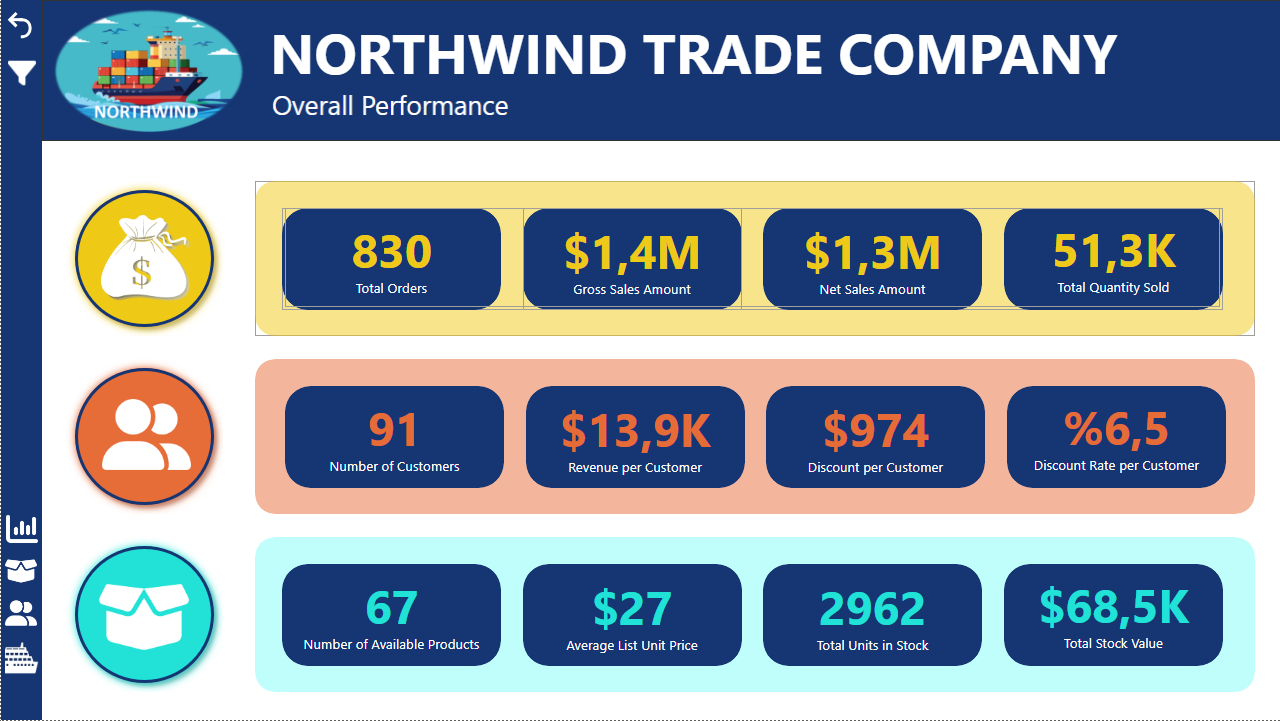

Layout of this report page (visuals, bound fields, positions):
{"tool":"powerbi","page":{"name":"Overall Performance","canvas":[1280,720],"ordinal":0},"visuals":[{"type":"shape","box":[41,0,1239,141],"z":0},{"type":"group","id":"g1","title":"KPI Cards","box":[281,207.7,941,102],"z":0,"group":"g5"},{"type":"shape","box":[281,207.7,219,102],"z":0,"group":"g1"},{"type":"group","id":"g2","title":"KPI Cards","box":[284,385.6,941,102],"z":0,"group":"g9"},{"type":"shape","box":[284,385.6,219,102],"z":0,"group":"g2"},{"type":"group","id":"g3","title":"KPI Cards","box":[281,564,941,102],"z":0,"group":"g12"},{"type":"shape","box":[281,564,219,102],"z":0,"group":"g3"},{"type":"actionButton","box":[0,593.1,41,40],"z":0,"group":"g16"},{"type":"image","box":[48,0,200,141],"z":1000},{"type":"shape","box":[254,181.2,1000,155],"z":1000,"group":"g4"},{"type":"card","fields":{"Values":["ölçüler.Total Orders"]},"box":[284,207.7,213,98],"z":1000,"group":"g13"},{"type":"shape","box":[521.7,207.7,219,102],"z":1000,"group":"g1"},{"type":"card","fields":{"Values":["ölçüler.Number of Unique Customers"]},"box":[287,385.6,213,98],"z":1000,"group":"g14"},{"type":"shape","box":[524.7,385.6,219,102],"z":1000,"group":"g2"},{"type":"actionButton","box":[0,551.1,41,40],"z":1000,"group":"g16"},{"type":"card","fields":{"Values":["ölçüler.Total Products"]},"box":[284,564,213,98],"z":1000,"group":"g15"},{"type":"shape","box":[521.7,564,219,102],"z":1000,"group":"g3"},{"type":"shape","title":"Left Nav Background","box":[0,0,41,720],"z":2000},{"type":"shape","box":[762.3,207.7,219,102],"z":2000,"group":"g1"},{"type":"card","fields":{"Values":["ölçüler.Gross Sales Amount"]},"box":[525,209.7,212,97],"z":2000,"group":"g13"},{"type":"shape","box":[765.3,385.6,219,102],"z":2000,"group":"g2"},{"type":"card","fields":{"Values":["ölçüler.Revenue_Per_Customer"]},"box":[528,387.6,212,97],"z":2000,"group":"g14"},{"type":"shape","box":[762.3,564,219,102],"z":2000,"group":"g3"},{"type":"card","fields":{"Values":["ölçüler.Average Unit Price"]},"box":[525,566,212,97],"z":2000,"group":"g15"},{"type":"actionButton","box":[0,635,42,46],"z":2000,"group":"g16"},{"type":"actionButton","box":[3,55,39,36],"z":3000},{"type":"shape","box":[1003,207.7,219,102],"z":3000,"group":"g1"},{"type":"card","fields":{"Values":["ölçüler.Total Quantity Sold"]},"box":[1006,207.7,213,97],"z":3000,"group":"g13"},{"type":"shape","box":[1006,385.6,219,102],"z":3000,"group":"g2"},{"type":"card","fields":{"Values":["ölçüler.Discount_Rate_Per_Customer"]},"box":[1009,385.6,213,97],"z":3000,"group":"g14"},{"type":"actionButton","box":[1,509.2,41,40],"z":3000,"group":"g16"},{"type":"shape","box":[1003,564,219,102],"z":3000,"group":"g3"},{"type":"card","fields":{"Values":["ölçüler.Total_Stock_Value"]},"box":[1006,564,213,97],"z":3000,"group":"g15"},{"type":"actionButton","box":[0.5,7,41,36],"z":4000},{"type":"card","fields":{"Values":["ölçüler.Net_Sales_Amount"]},"box":[765.3,210,213,97],"z":4000,"group":"g13"},{"type":"card","fields":{"Values":["ölçüler.Discount per Customer"]},"box":[768.3,387.9,213,97],"z":4000,"group":"g14"},{"type":"card","fields":{"Values":["ölçüler.Total Units in Stock"]},"box":[765.3,566.3,213,97],"z":4000,"group":"g15"},{"type":"textbox","box":[264,9,999,91],"z":5000},{"type":"group","id":"g4","title":"Group 2","box":[254,181.2,1000,155],"z":6000},{"type":"group","id":"g5","title":"KPIs","box":[281,207.7,941,102],"z":6000,"group":"g4"},{"type":"group","id":"g6","title":"Group 3","box":[254,359.1,1000,155],"z":7000},{"type":"shape","box":[254,359.1,1000,155],"z":7000,"group":"g6"},{"type":"group","id":"g7","title":"Group 4","box":[254,537,1000,155],"z":8000},{"type":"shape","box":[254,537,1000,155],"z":8000,"group":"g7"},{"type":"group","id":"g8","title":"Group 5","box":[64.7,181,157,155],"z":9000},{"type":"group","id":"g9","title":"KPIs","box":[284,385.6,941,102],"z":9000,"group":"g6"},{"type":"shape","box":[64.7,181,157,155],"z":10000,"group":"g8"},{"type":"group","id":"g10","title":"Group 6","box":[64.7,359,157,155],"z":10000},{"type":"shape","box":[64.7,359,157,155],"z":11000,"group":"g10"},{"type":"group","id":"g11","title":"Group 7","box":[64.7,537,157,155],"z":11000},{"type":"image","box":[258,78,266,57],"z":12000},{"type":"shape","box":[64.7,537,157,155],"z":12000,"group":"g11"},{"type":"group","id":"g12","title":"KPIs","box":[281,564,941,102],"z":12000,"group":"g7"},{"type":"group","id":"g13","title":"KPI Values","box":[284,207.7,935,99.3],"z":12001,"group":"g5"},{"type":"group","id":"g14","title":"KPI Values","box":[287,385.6,935,99.3],"z":12001,"group":"g9"},{"type":"group","id":"g15","title":"KPI Values","box":[284,564,935,99.3],"z":12001,"group":"g12"},{"type":"group","id":"g16","title":"Group 1","box":[0,509.2,42,171.8],"z":13000},{"type":"image","box":[93,579,100,76],"z":13000,"group":"g11"},{"type":"image","box":[86,394,119,81],"z":14000,"group":"g10"},{"type":"image","box":[91,210,107,96],"z":15000,"group":"g8"}]}

Visuals, with their boxes on the page's 1280x720 design canvas (x1, y1, x2, y2). These are canvas units, not pixel positions in the 1280x721 screenshot, which may show the page scaled, cropped or inside an application window:
shape: <box>41,0,1280,141</box>
"KPI Cards" group: <box>281,208,1222,310</box>
shape: <box>281,208,500,310</box>
"KPI Cards" group: <box>284,386,1225,488</box>
shape: <box>284,386,503,488</box>
"KPI Cards" group: <box>281,564,1222,666</box>
shape: <box>281,564,500,666</box>
actionButton: <box>0,593,41,633</box>
image: <box>48,0,248,141</box>
shape: <box>254,181,1254,336</box>
card - ölçüler.Total Orders: <box>284,208,497,306</box>
shape: <box>522,208,741,310</box>
card - ölçüler.Number of Unique Customers: <box>287,386,500,484</box>
shape: <box>525,386,744,488</box>
actionButton: <box>0,551,41,591</box>
card - ölçüler.Total Products: <box>284,564,497,662</box>
shape: <box>522,564,741,666</box>
"Left Nav Background" shape: <box>0,0,41,720</box>
shape: <box>762,208,981,310</box>
card - ölçüler.Gross Sales Amount: <box>525,210,737,307</box>
shape: <box>765,386,984,488</box>
card - ölçüler.Revenue_Per_Customer: <box>528,388,740,485</box>
shape: <box>762,564,981,666</box>
card - ölçüler.Average Unit Price: <box>525,566,737,663</box>
actionButton: <box>0,635,42,681</box>
actionButton: <box>3,55,42,91</box>
shape: <box>1003,208,1222,310</box>
card - ölçüler.Total Quantity Sold: <box>1006,208,1219,305</box>
shape: <box>1006,386,1225,488</box>
card - ölçüler.Discount_Rate_Per_Customer: <box>1009,386,1222,483</box>
actionButton: <box>1,509,42,549</box>
shape: <box>1003,564,1222,666</box>
card - ölçüler.Total_Stock_Value: <box>1006,564,1219,661</box>
actionButton: <box>0,7,42,43</box>
card - ölçüler.Net_Sales_Amount: <box>765,210,978,307</box>
card - ölçüler.Discount per Customer: <box>768,388,981,485</box>
card - ölçüler.Total Units in Stock: <box>765,566,978,663</box>
textbox: <box>264,9,1263,100</box>
"Group 2" group: <box>254,181,1254,336</box>
"KPIs" group: <box>281,208,1222,310</box>
"Group 3" group: <box>254,359,1254,514</box>
shape: <box>254,359,1254,514</box>
"Group 4" group: <box>254,537,1254,692</box>
shape: <box>254,537,1254,692</box>
"Group 5" group: <box>65,181,222,336</box>
"KPIs" group: <box>284,386,1225,488</box>
shape: <box>65,181,222,336</box>
"Group 6" group: <box>65,359,222,514</box>
shape: <box>65,359,222,514</box>
"Group 7" group: <box>65,537,222,692</box>
image: <box>258,78,524,135</box>
shape: <box>65,537,222,692</box>
"KPIs" group: <box>281,564,1222,666</box>
"KPI Values" group: <box>284,208,1219,307</box>
"KPI Values" group: <box>287,386,1222,485</box>
"KPI Values" group: <box>284,564,1219,663</box>
"Group 1" group: <box>0,509,42,681</box>
image: <box>93,579,193,655</box>
image: <box>86,394,205,475</box>
image: <box>91,210,198,306</box>
